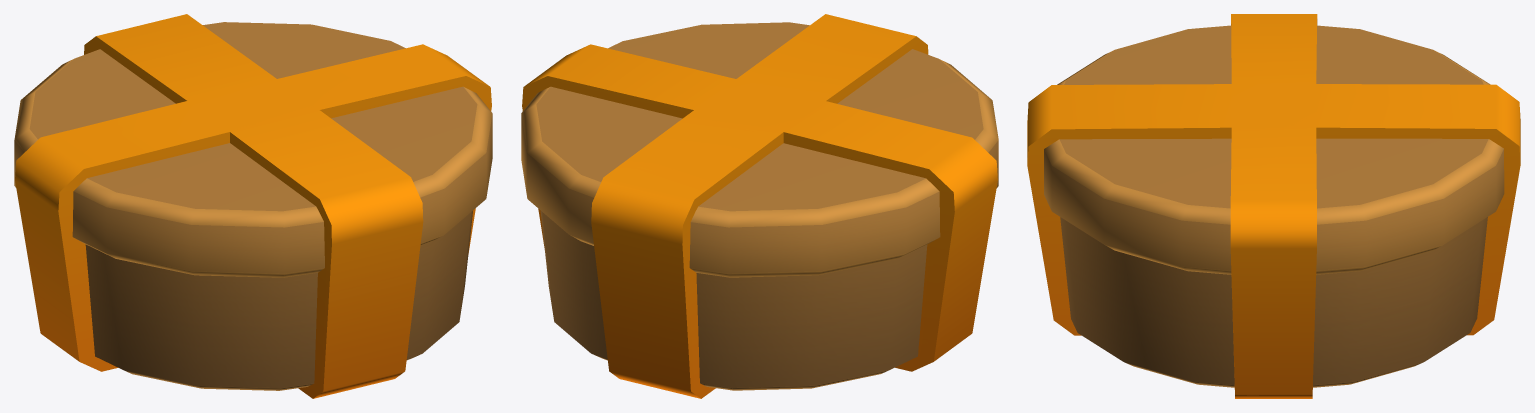
File: giftbox_012.fbx
The picture shows the model from 3 angles, left to right: view 1: azimuth 30°, elevation 25°; view 2: azimuth 150°, elevation 25°; view 3: azimuth 270°, elevation 25°; orthographic projection.
Parts seen in each view (by area): view 1: giftbox_012; view 2: giftbox_012; view 3: giftbox_012.
Part boxes in pixels (<box>): giftbox_012: <box>14,14,492,398</box>; giftbox_012: <box>521,14,998,398</box>; giftbox_012: <box>1027,14,1520,398</box>.
Size of the model in its own units: 235 by 232 by 109.
